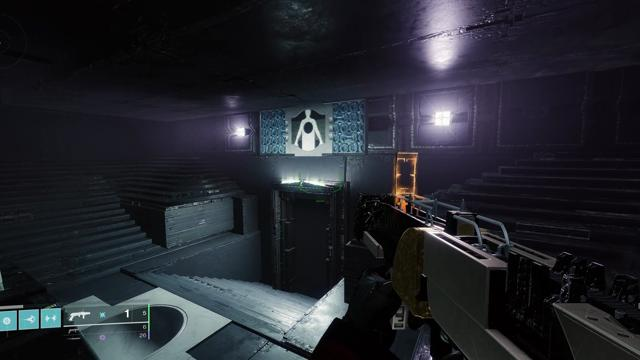grief: (292, 110, 325, 151)
